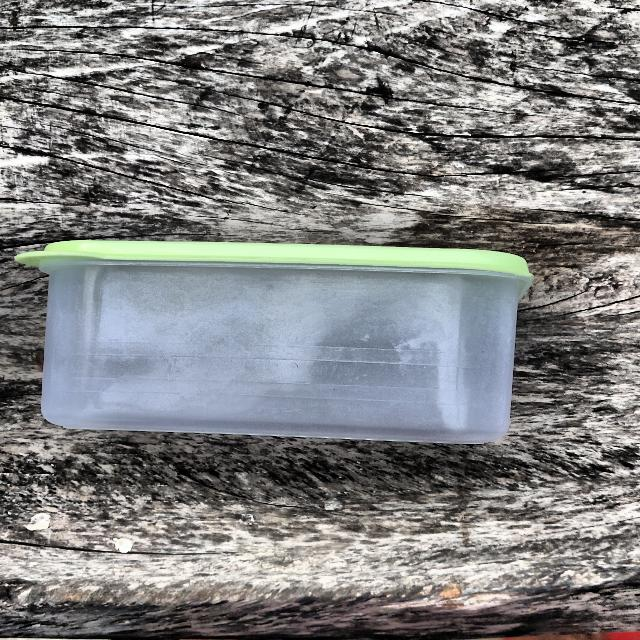plastic container: (12, 221, 547, 461)
